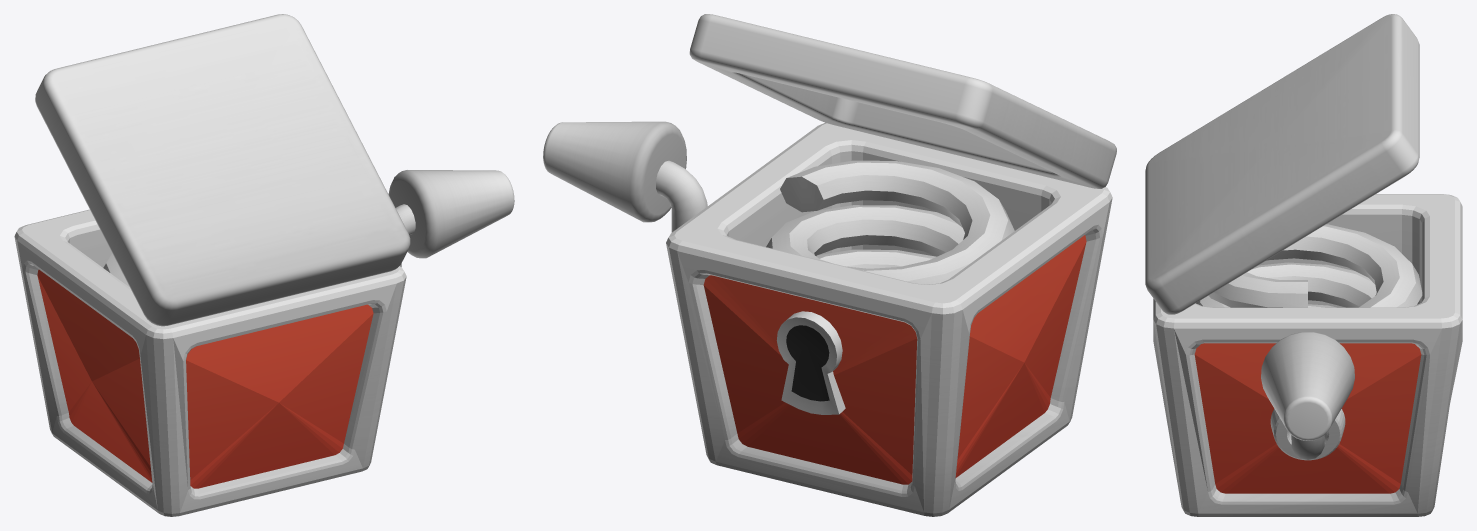
Rendered from Jester_Box.fbx.
3 views of the same model, side by side, from view 1: azimuth 30°, elevation 25°; view 2: azimuth 150°, elevation 25°; view 3: azimuth 270°, elevation 25° (orthographic). The views are drawn at different scales.
Visible parts, largest first — view 1: box_top, box_bottom, wheel; view 2: box_bottom, box_top, spring, wheel; view 3: box_bottom, box_top, spring, wheel.
Part boxes in pixels (x1=…): box_top: x1=35, y1=14, x2=410, y2=326; box_bottom: x1=14, y1=209, x2=406, y2=516; wheel: x1=388, y1=170, x2=514, y2=266; box_bottom: x1=666, y1=122, x2=1112, y2=516; box_top: x1=689, y1=14, x2=1116, y2=188; spring: x1=766, y1=160, x2=1014, y2=284; wheel: x1=543, y1=121, x2=707, y2=232; box_bottom: x1=1153, y1=194, x2=1462, y2=516; box_top: x1=1145, y1=14, x2=1419, y2=314; spring: x1=1196, y1=224, x2=1422, y2=307; wheel: x1=1261, y1=332, x2=1354, y2=459.
Size of the model in its own units: 24.04 by 20.54 by 15.04.
3 materials, 3 textured.
